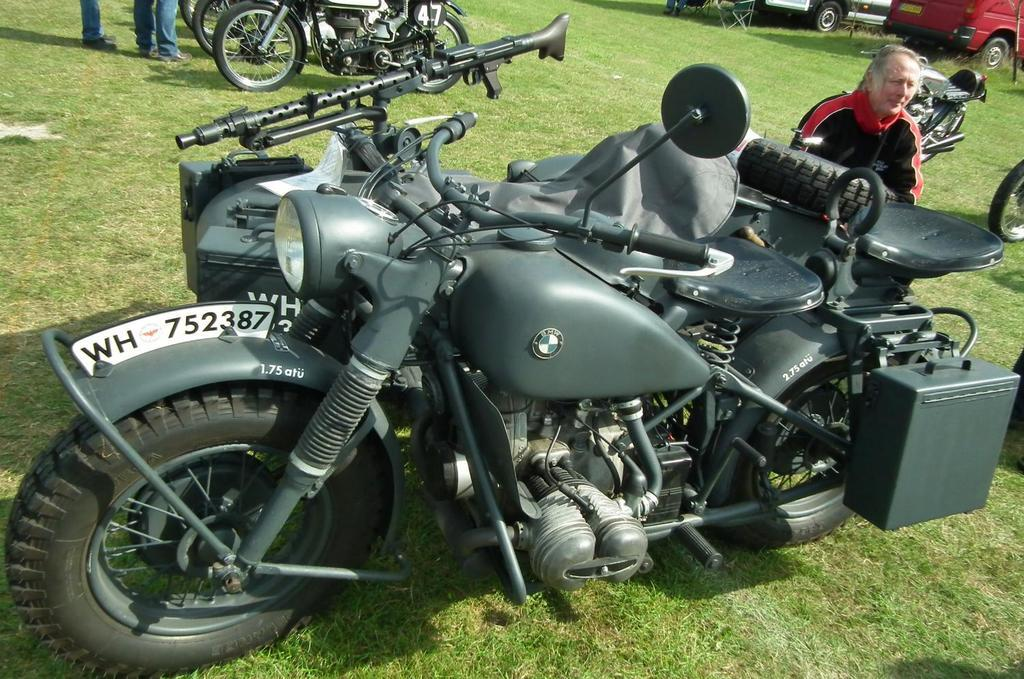non-violence: (808, 59, 954, 213), (138, 0, 190, 66), (82, 0, 114, 53)
weapon: (282, 14, 608, 130)
